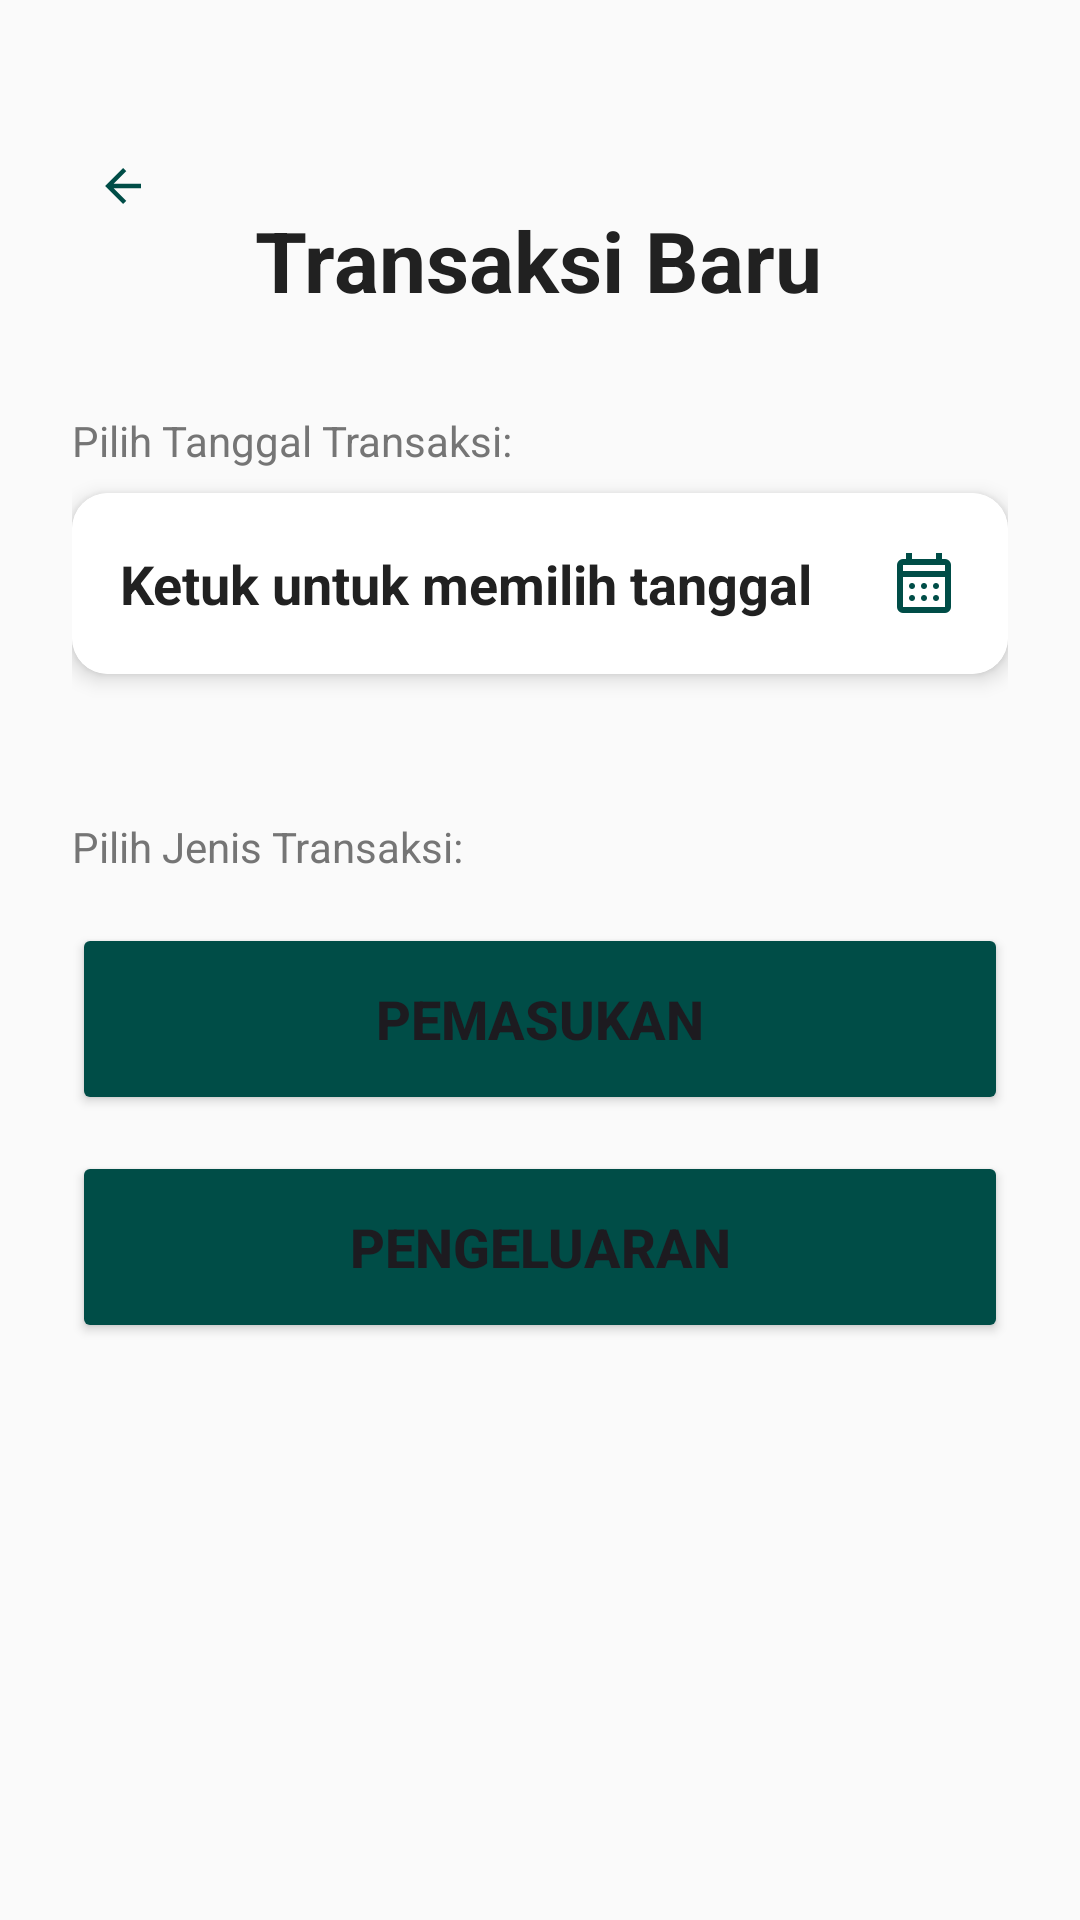

Point at icon controls on the screen. Image size 1080px×1920px, points as point (x, y).
back: point (123, 186)
